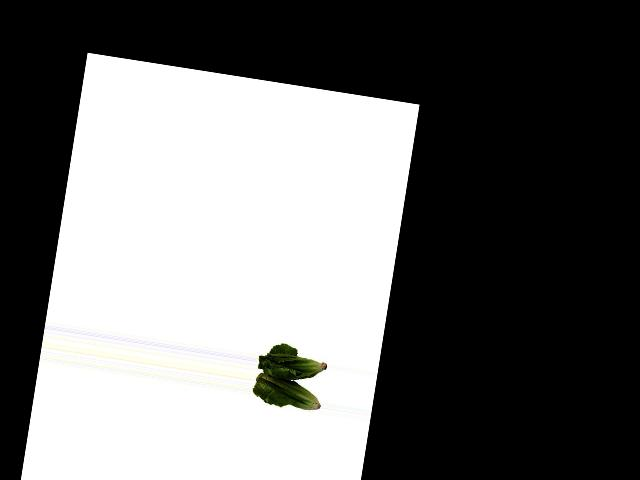lettuce: (250, 346, 329, 416)
